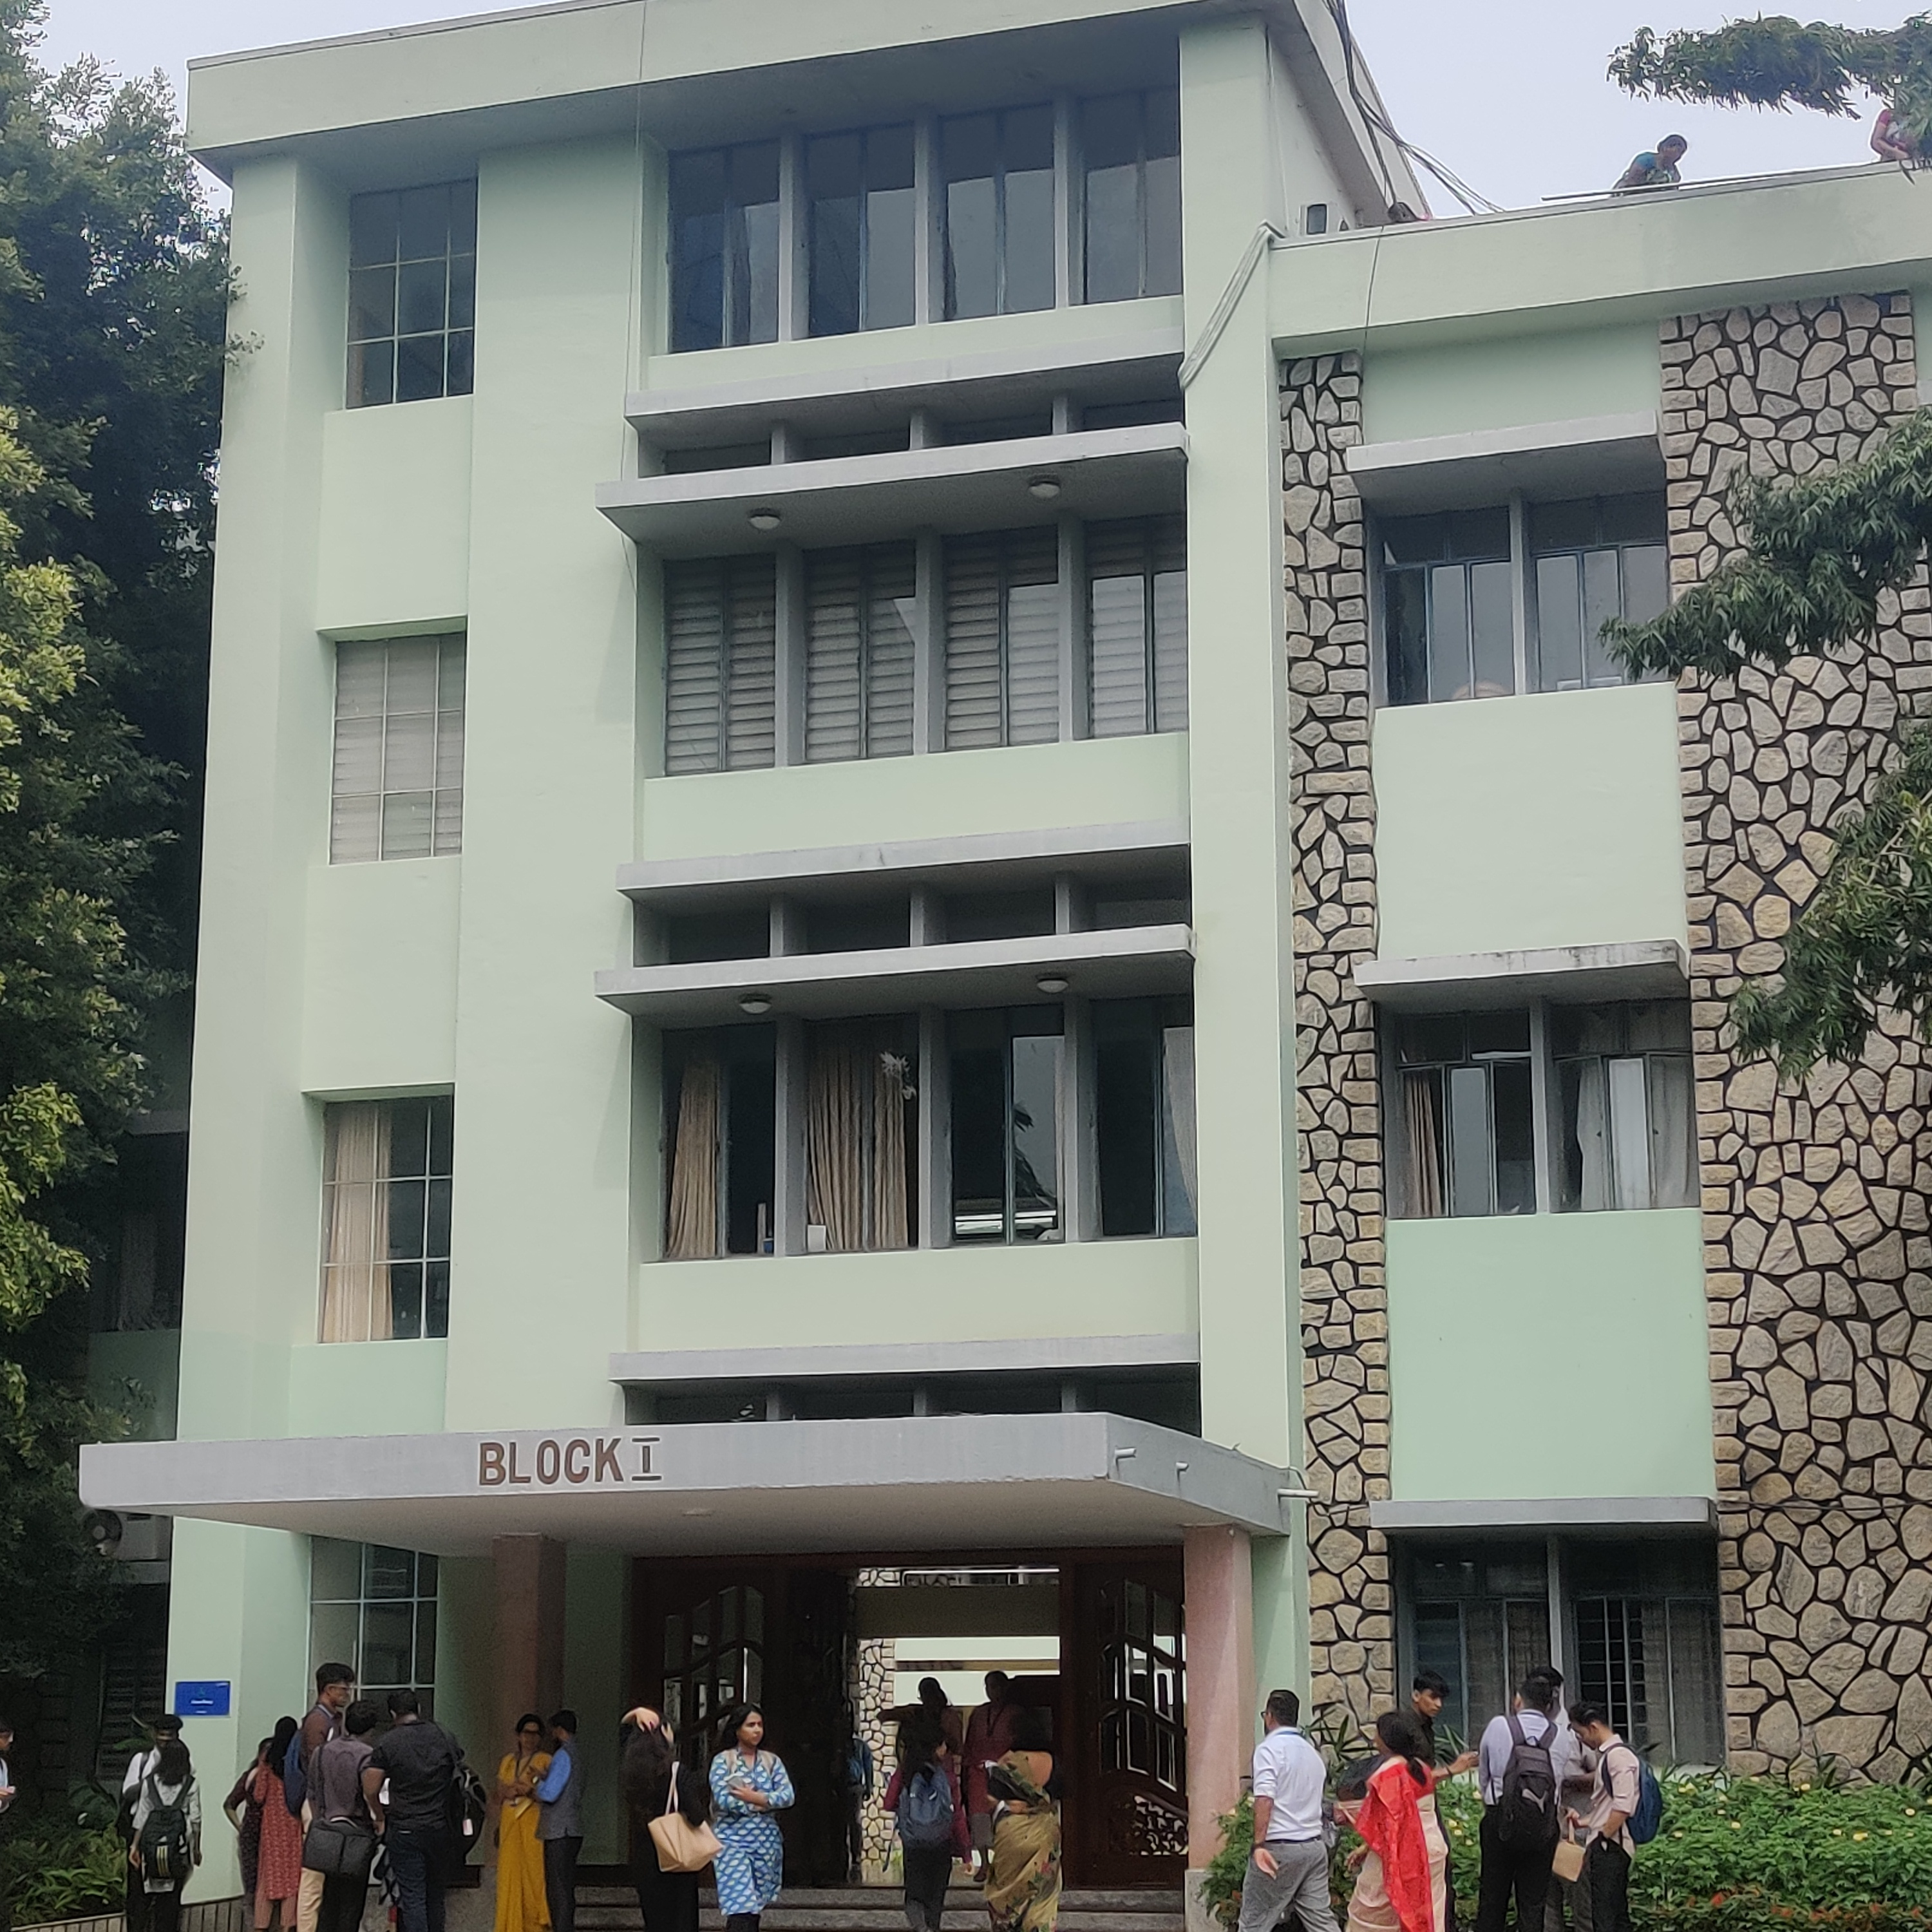Block 1: (184, 16, 1907, 1713)
